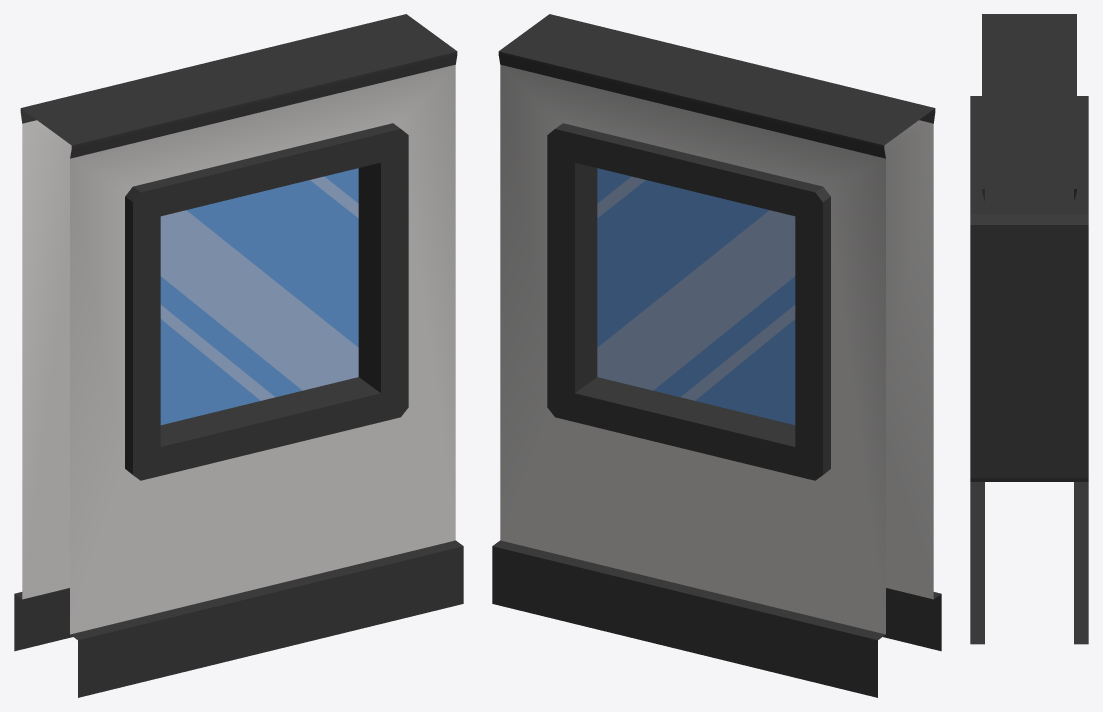
File: window.gltf
The picture shows the model from 3 angles, left to right: view 1: azimuth 30°, elevation 25°; view 2: azimuth 150°, elevation 25°; view 3: azimuth 270°, elevation 25°; orthographic projection. The views are drawn at different scales.
Visible parts, largest first — view 1: Cube.001, Cube, Cube.002; view 2: Cube.001, Cube, Cube.003; view 3: Cube, Cube.001.
Boxes of the visible parts, x1=… form: Cube.001: x1=14, y1=14, x2=463, y2=697; Cube: x1=125, y1=123, x2=408, y2=480; Cube.002: x1=160, y1=168, x2=358, y2=425; Cube.001: x1=492, y1=14, x2=941, y2=697; Cube: x1=547, y1=123, x2=830, y2=480; Cube.003: x1=597, y1=168, x2=795, y2=424; Cube: x1=970, y1=96, x2=1088, y2=481; Cube.001: x1=970, y1=14, x2=1088, y2=644.
Size of the model in its own units: 1.4 by 1.9 by 0.4.
